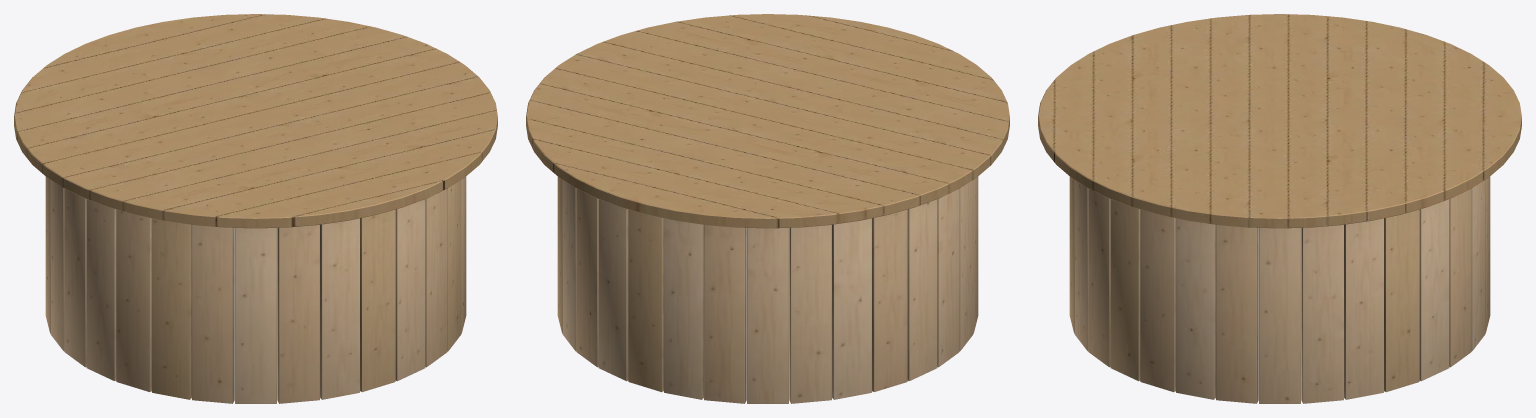
Rendered from round_bar.glb.
3 renders of one model, left to right at view 1: azimuth 30°, elevation 25°; view 2: azimuth 150°, elevation 25°; view 3: azimuth 270°, elevation 25°, orthographic.
Visible parts, largest first — view 1: round_bar; view 2: round_bar; view 3: round_bar.
Boxes of the visible parts, box(x1,y1,x2,y2) form: round_bar: box(14, 14, 497, 403); round_bar: box(526, 14, 1009, 403); round_bar: box(1038, 14, 1521, 403).
Bounding box in the file's own units: 2.48 × 1.13 × 2.48.
1 material, 1 textured.
